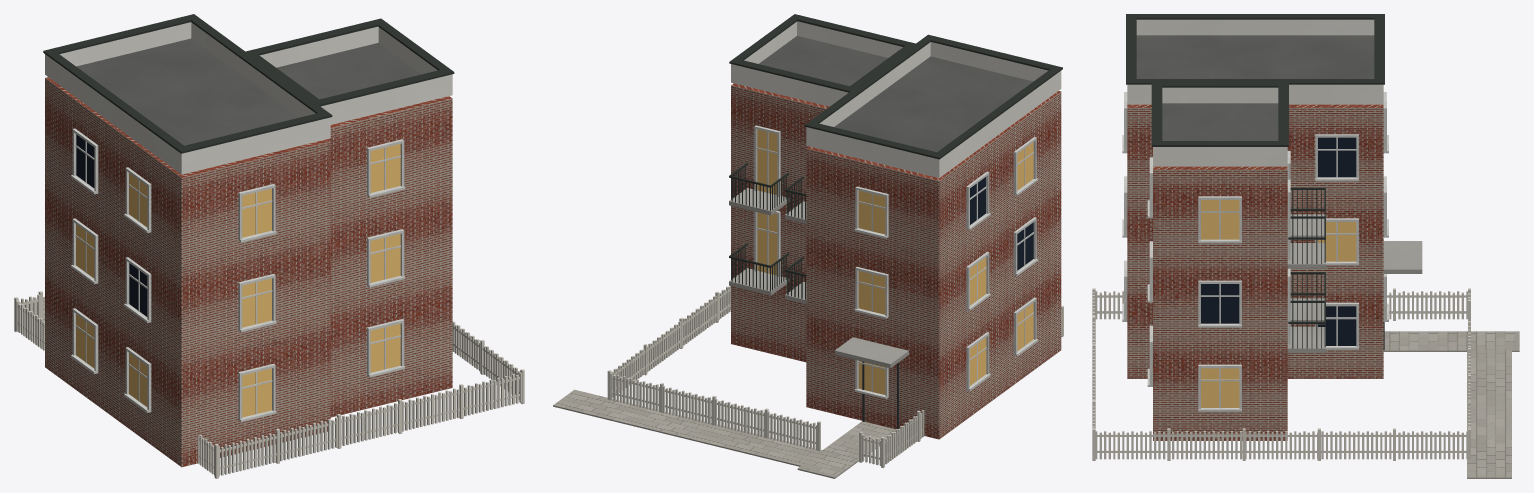
File: dum_1b_byty_cihlove.glb
The picture shows the model from 3 angles, left to right: view 1: azimuth 30°, elevation 25°; view 2: azimuth 150°, elevation 25°; view 3: azimuth 270°, elevation 25°; orthographic projection. The views are drawn at different scales.
Parts seen in each view (by area): view 1: dum, noc; view 2: dum, noc; view 3: dum, noc.
Part boxes in pixels (box(x1,y1,x2,y2)): dum: box(14, 14, 524, 478); noc: box(76, 144, 400, 417); dum: box(553, 14, 1063, 478); noc: box(757, 129, 1033, 394); dum: box(1092, 14, 1519, 478); noc: box(1201, 200, 1356, 407).
Bounding box in the file's own units: 12.4 × 10.23 × 13.3.
1 material, 1 textured.
